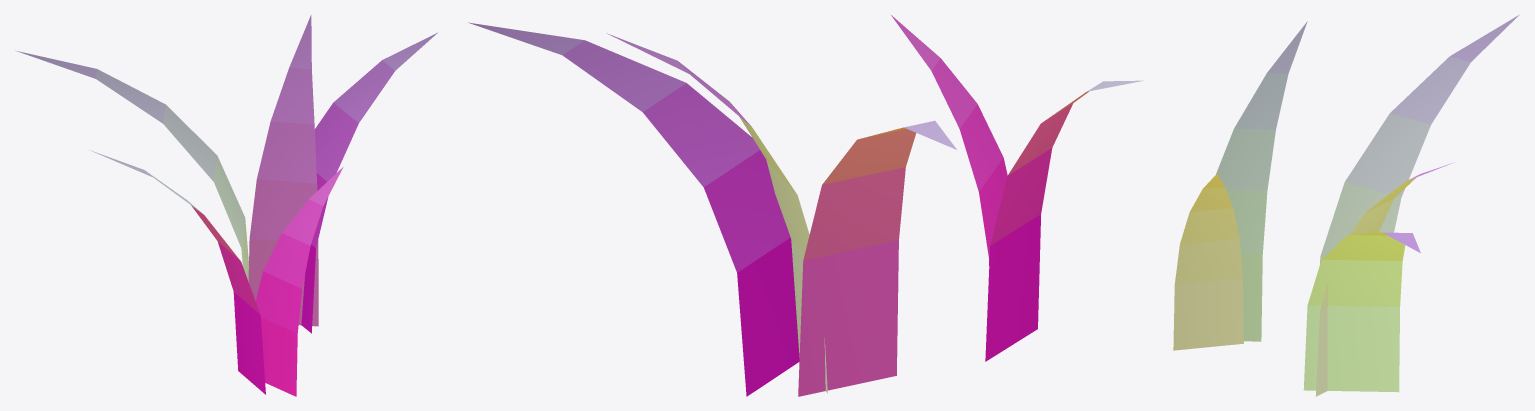
File: grass_iso_edge.gltf
The picture shows the model from 3 angles, left to right: view 1: azimuth 30°, elevation 25°; view 2: azimuth 150°, elevation 25°; view 3: azimuth 270°, elevation 25°; orthographic projection. The views are drawn at different scales.
Visible parts, largest first — view 1: grass_iso_edge; view 2: grass_iso_edge; view 3: grass_iso_edge.
Part boxes in pixels (bbox=[...]): grass_iso_edge: bbox=[15, 15, 437, 396]; grass_iso_edge: bbox=[468, 15, 1143, 396]; grass_iso_edge: bbox=[1173, 14, 1519, 396].
Size of the model in its own units: 0.4154 by 0.2518 by 0.2889.
